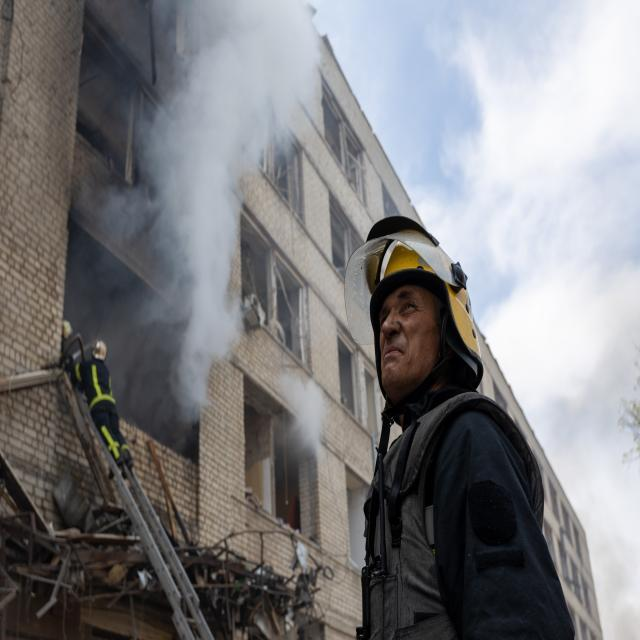Smoke: (85, 0, 328, 463), (348, 474, 378, 568)
